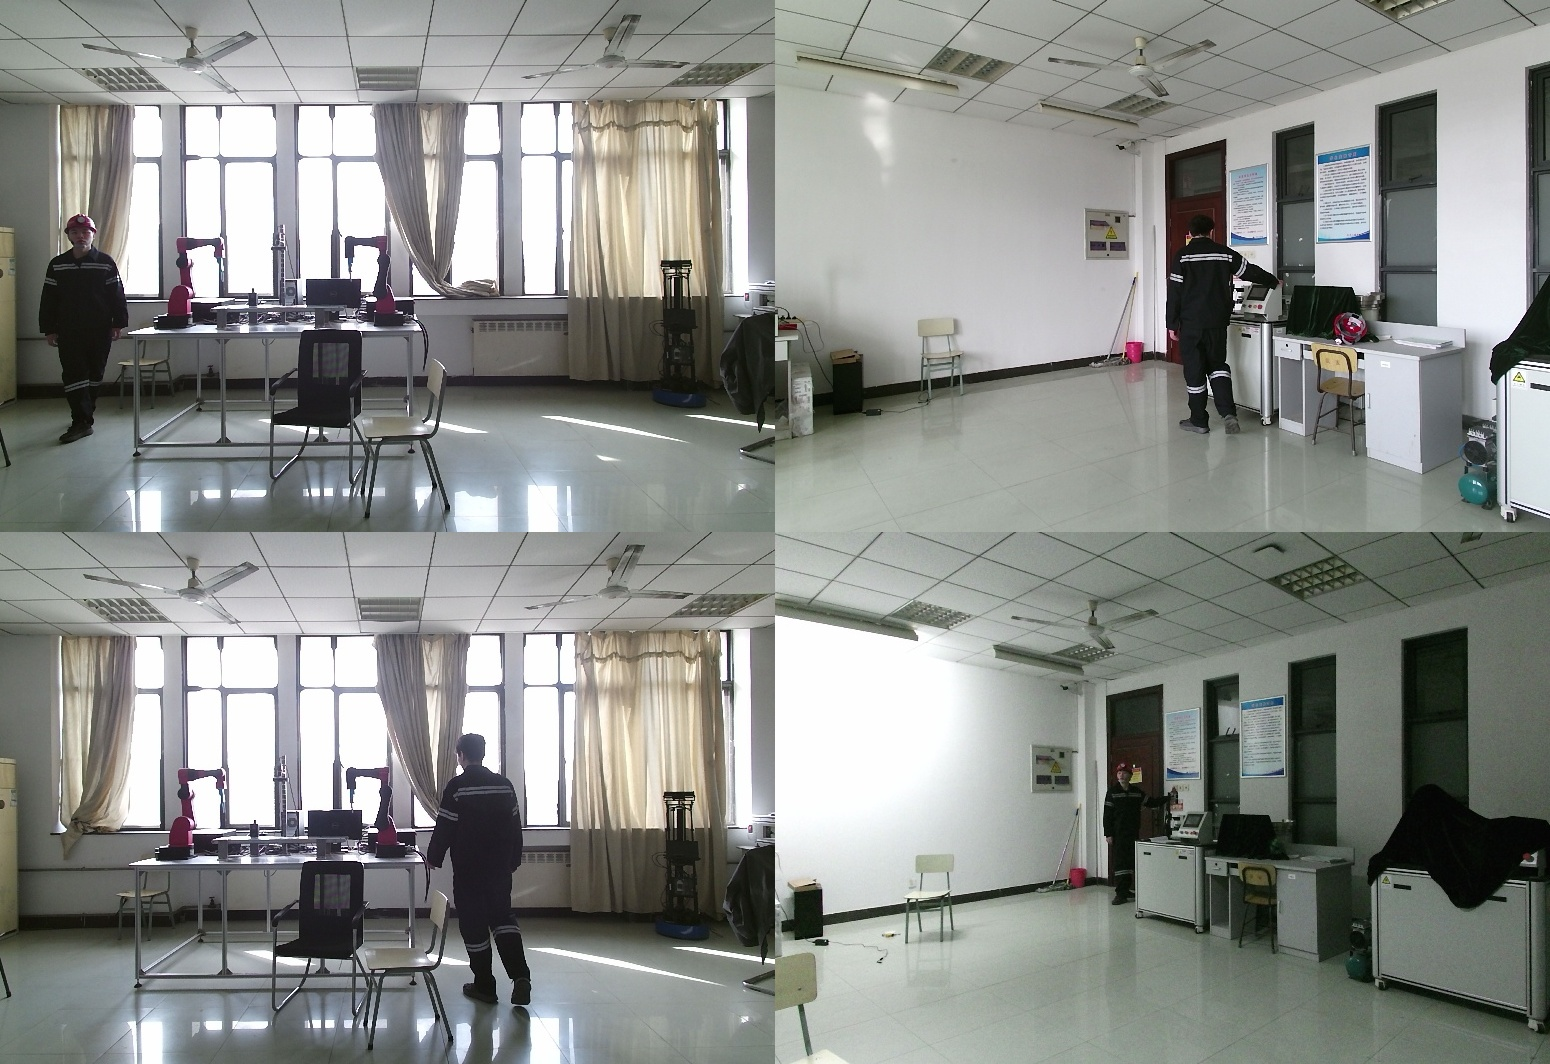person: (432, 736, 538, 1006), (1176, 217, 1282, 435), (37, 216, 129, 443), (1097, 761, 1151, 909)
